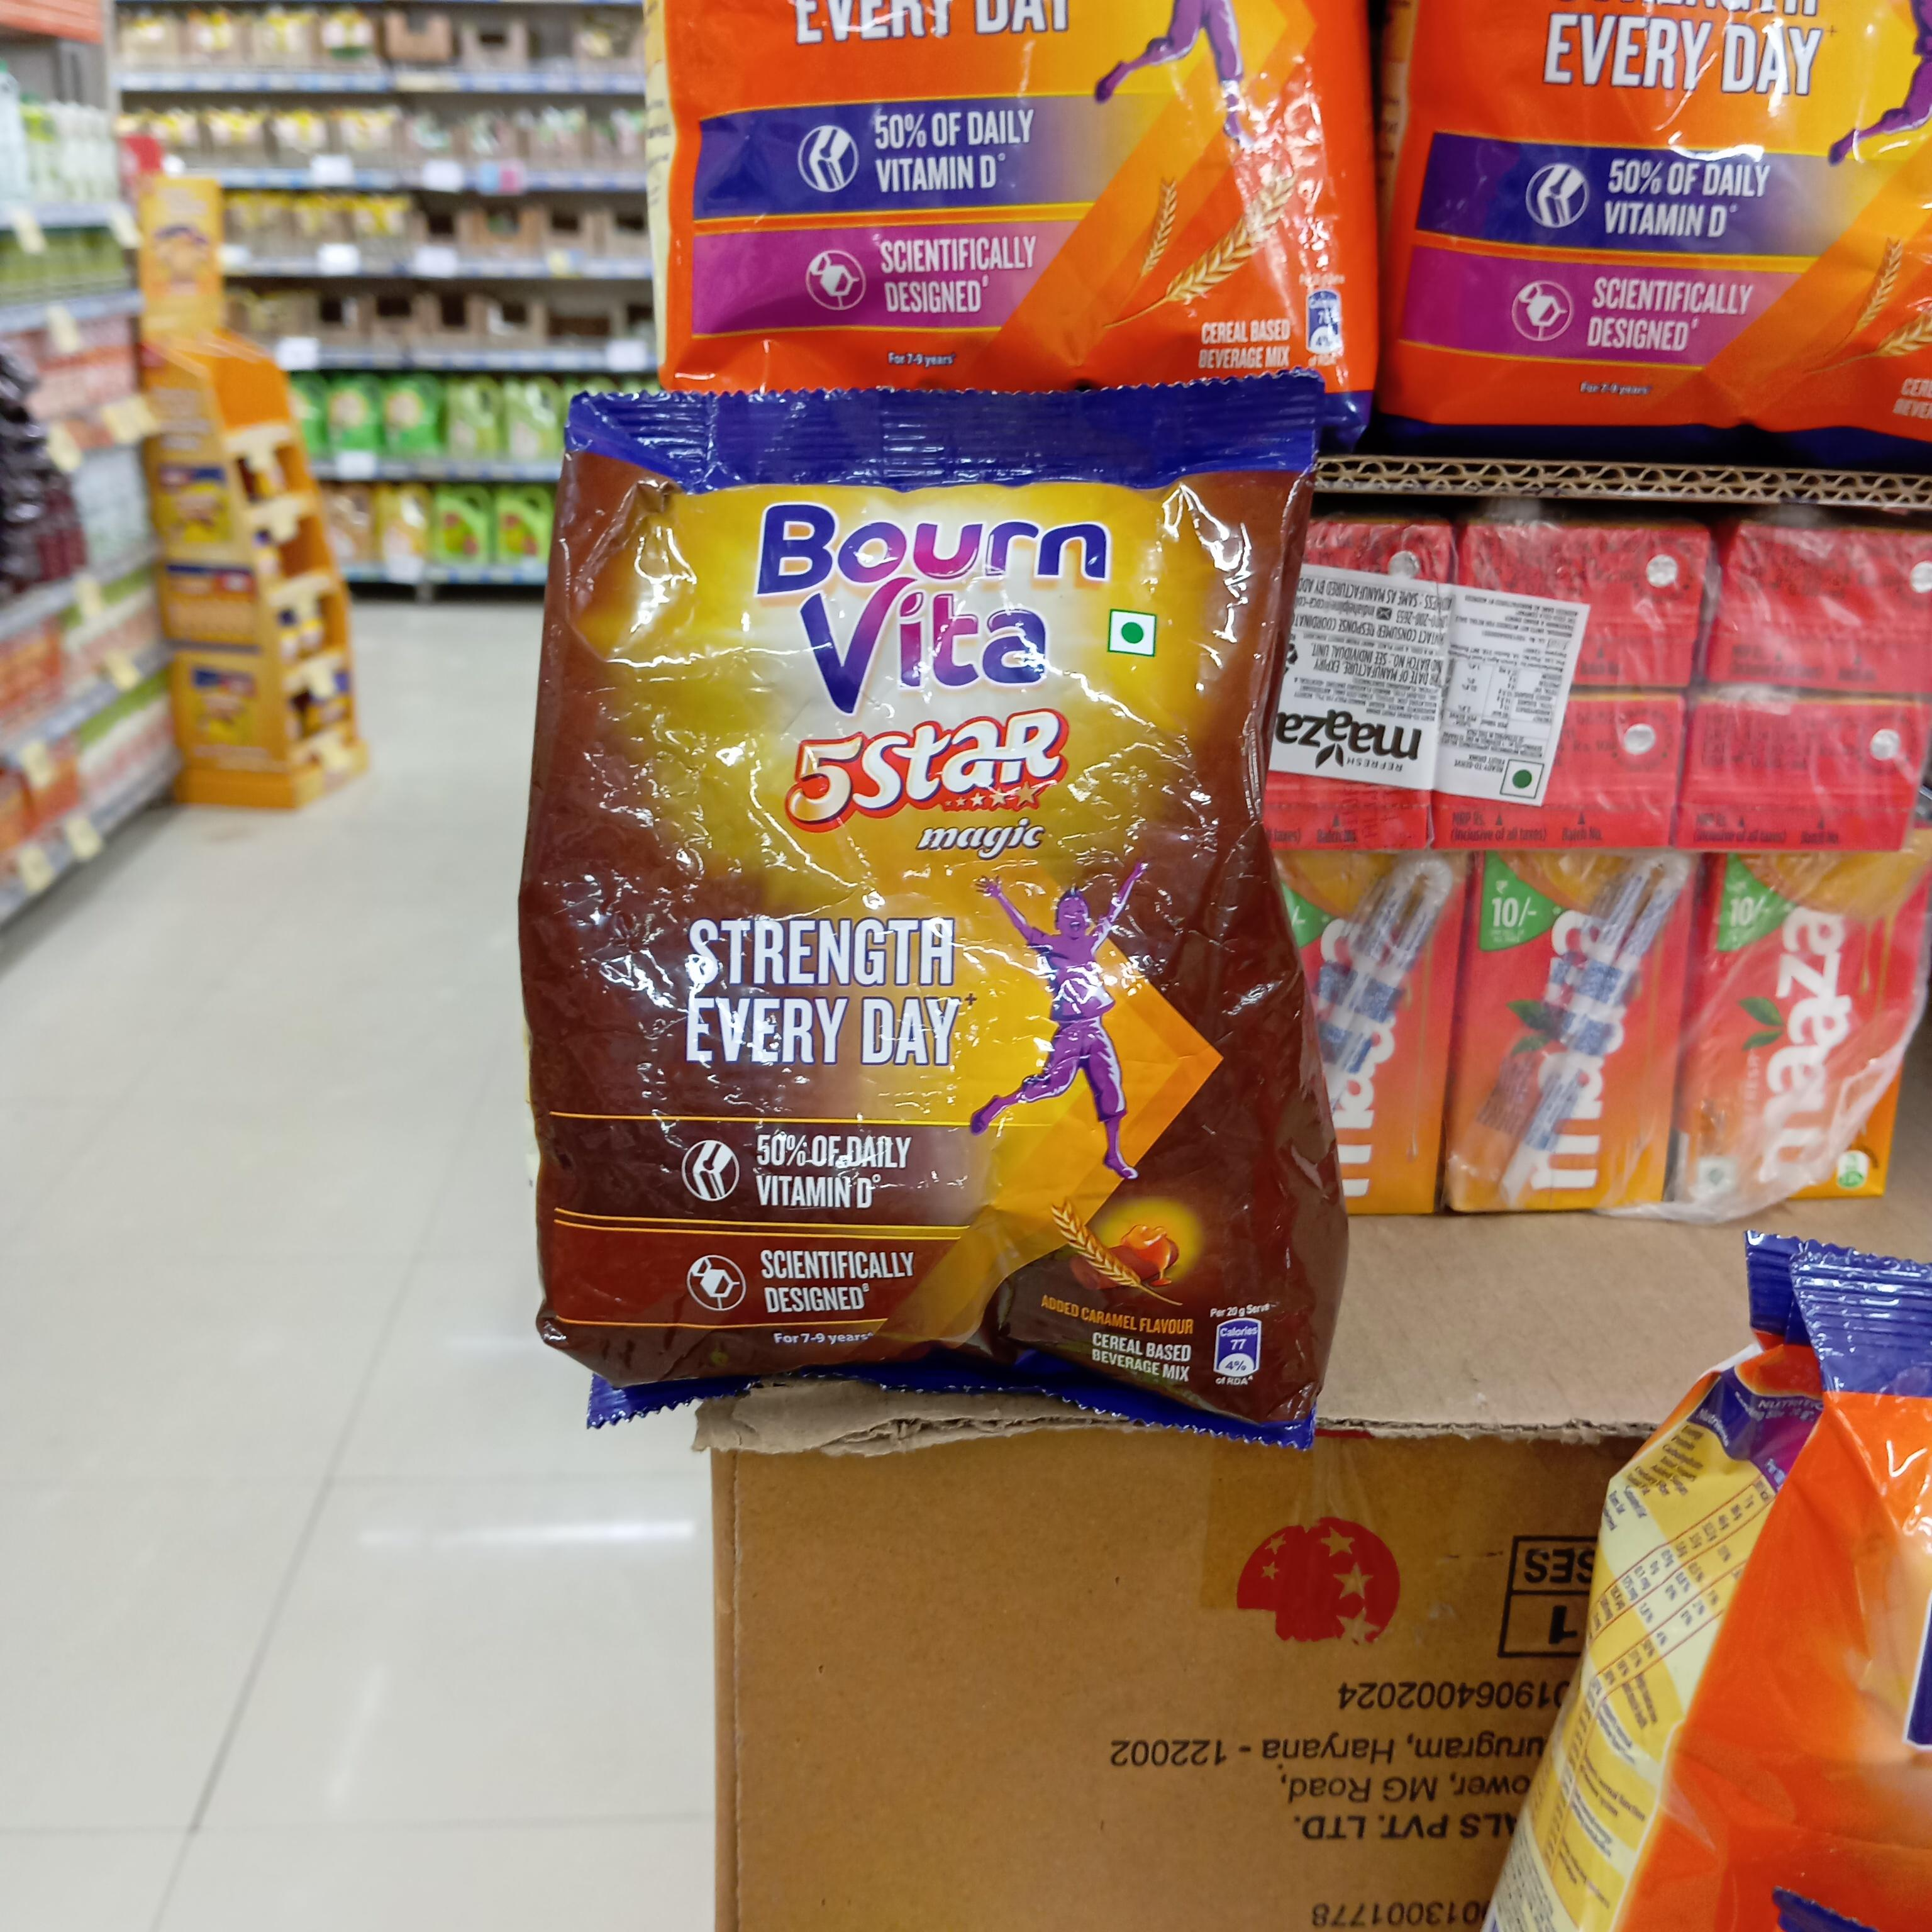BOURN_VITA_FIVE_STAR_MAGIC_500_G_POUCH: (557, 414, 1304, 1422)
